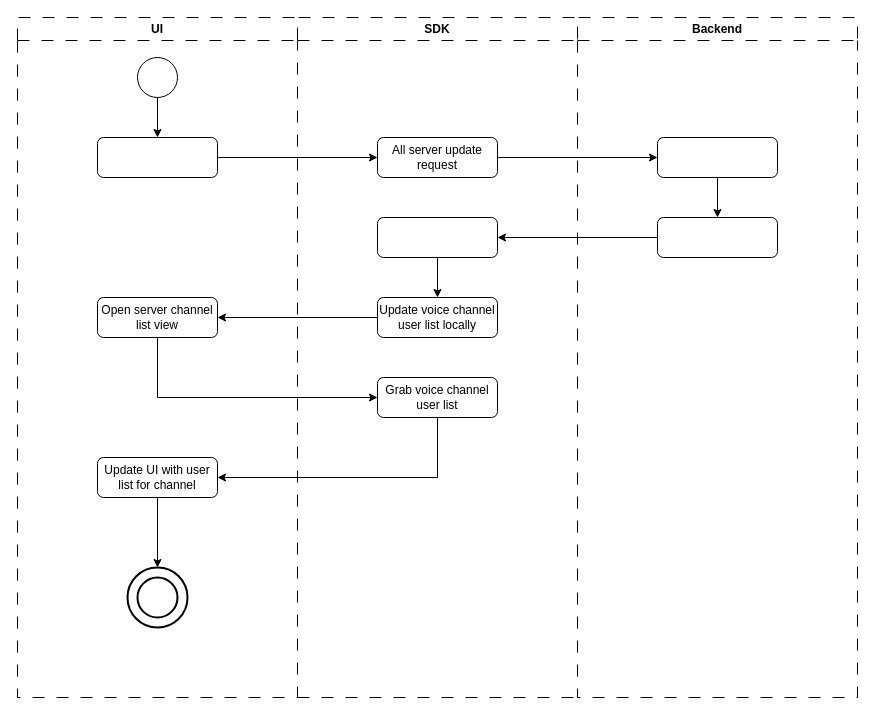
Some shapes in this 875 by 716 pixel diagram are drawn without their labels. The centre of each missing label's shape, as x and y in pixels:
Create response: the point at 717,237
Decode response: the point at 437,237
Get all target server updates: the point at 717,157
Open ConnText application (cold start): the point at 157,157
